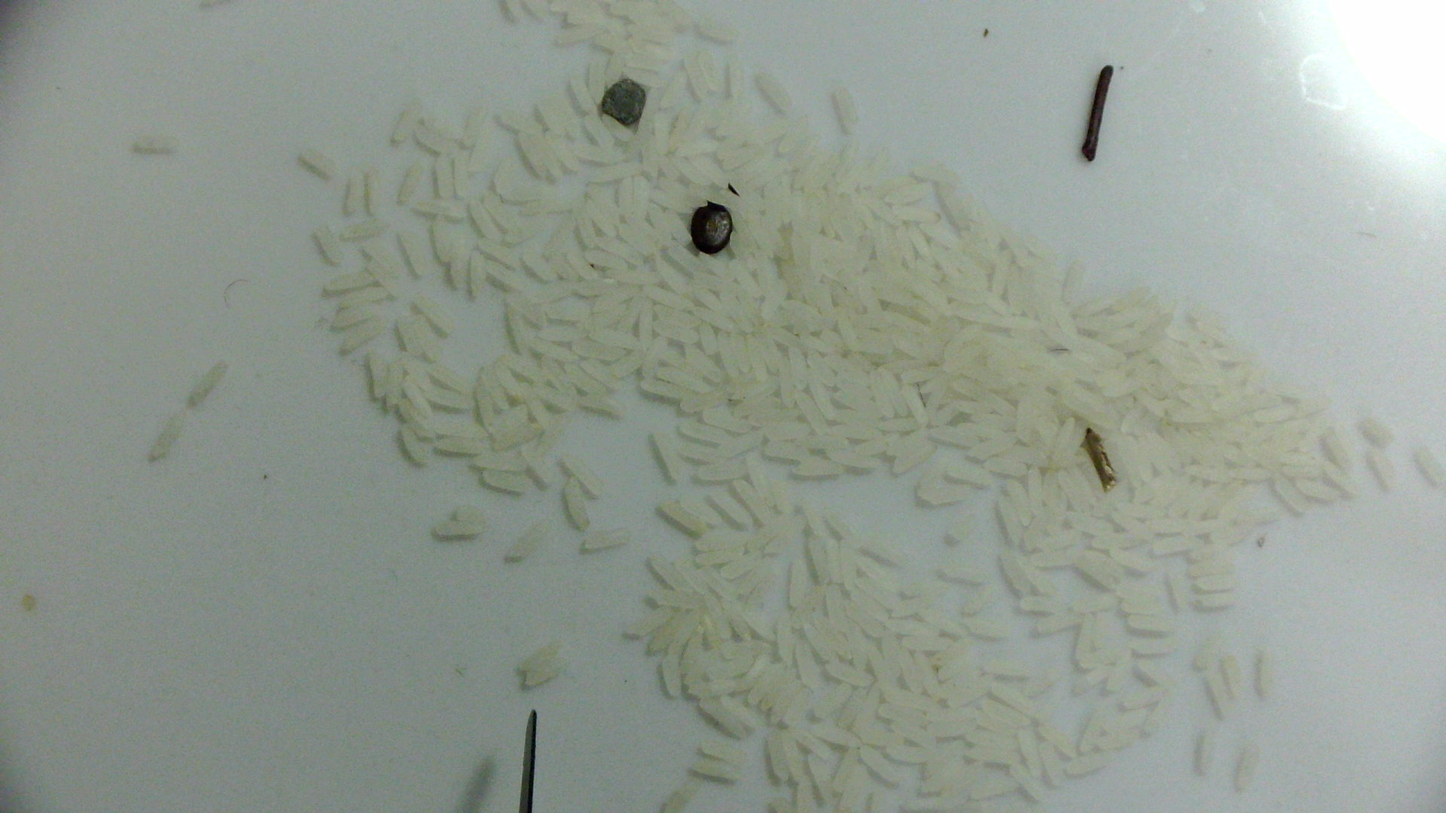WatermelonSeeds: (1074, 415, 1126, 495)
rock: (685, 197, 739, 259)
wood: (1072, 45, 1122, 188), (583, 55, 659, 136)
